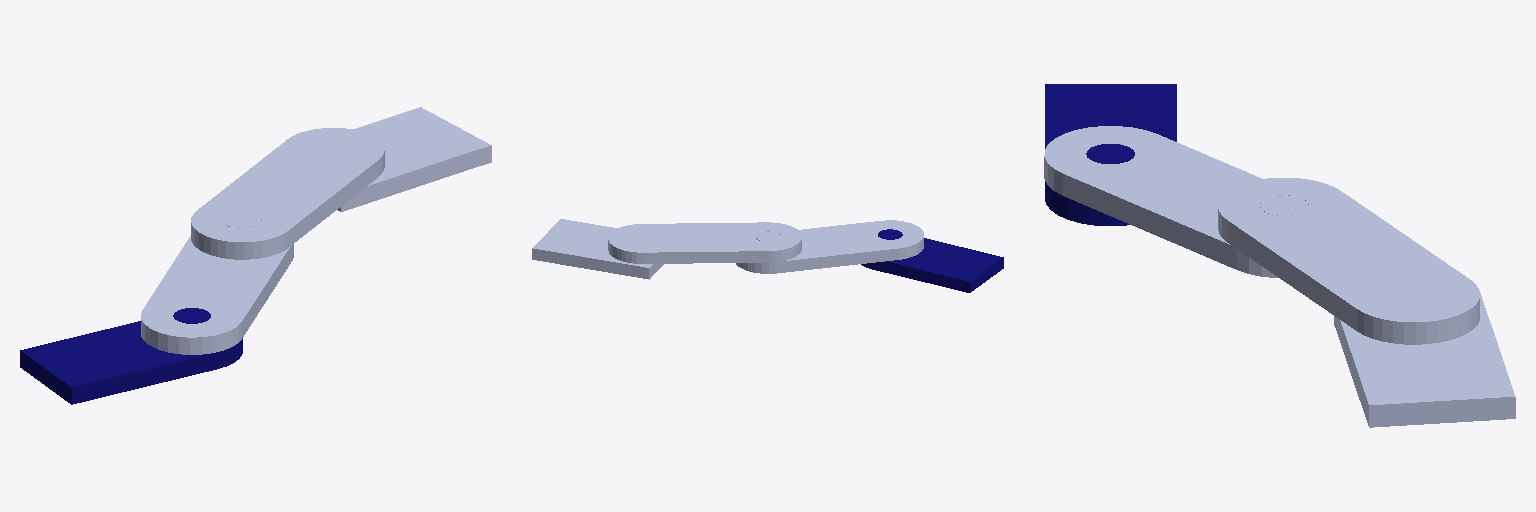
robot.urdf — urdf_file:
<?xml version="1.0" encoding="utf-8"?>
<!-- This URDF was automatically created by SolidWorks to URDF Exporter! Originally created by [author] ([email redacted]) 
     Commit Version: 1.6.0-4-g7f85cfe  Build Version: 1.6.7995.38578
     For more information, please see http://wiki.ros.org/sw_urdf_exporter -->
<robot name="urdf_file">
  <link name="base_link">
    <inertial>
      <origin
        xyz="-0.108085 -3.4694E-18 0.5"
        rpy="0 0 0" />
      <mass
        value="0.0010091" />
      <inertia
        ixx="1.4934E-08"
        ixy="-1.0785E-24"
        ixz="-1.0572E-09"
        iyy="6.7127E-08"
        iyz="-6.4523E-25"
        izz="8.0345E-08" />
    </inertial>
    <visual>
      <origin
        xyz="0 0 0"
        rpy="0 0 0" />
      <geometry>
        <mesh
          filename="package://serial_4bar/meshes/base_link.STL" />
      </geometry>
      <material
        name="">
        <color
          rgba="0.1 0.1 0.53 1" />
      </material>
    </visual>
    <collision>
      <origin
        xyz="0 0 0"
        rpy="0 0 0" />
      <geometry>
        <box size = "0.01357 0.02 0.002"/>
      </geometry>
    </collision>
  </link>

  <link
  name="link2">
    <inertial>
      <origin
        xyz="0.0097543 0.0096735 -0.0011662"
        rpy="0 0 0" />
      <mass
        value="0.0012602" />
      <inertia
        ixx="7.9092E-08"
        ixy="-6.031E-08"
        ixz="-1.0828E-09"
        iyy="8.0095E-08"
        iyz="-1.0738E-09"
        izz="1.5719E-07" />
    </inertial>
    <visual>
      <origin
        xyz="0 0 0"
        rpy="0 0 0" />
      <geometry>
        <mesh
          filename="package://serial_4bar/meshes/link2.STL" />
      </geometry>
      <material
        name="">
        <color
          rgba="0.79216 0.81961 0.93333 1" />
      </material>
    </visual>
    <collision>
      <origin
        xyz="0 0 0"
        rpy="0 0 0" />
      <geometry>
        <box size = "0.01357 0.02 0.002"/>
      </geometry>
    </collision>
  </link>
  <joint
    name="joint1"
    type="revolute">
    <origin
      xyz="0 0 0"
      rpy="0 0 0" />
    <parent
      link="base_link" />
    <child
      link="link2" />
    <axis
      xyz="0 0 1" />
  </joint>
  <link
    name="link3">
    <inertial>
      <origin
        xyz="0.013381 -0.0031119 -0.0013738"
        rpy="0 0 0" />
      <mass
        value="0.0012602" />
      <inertia
        ixx="2.5471E-08"
        ixy="2.6614E-08"
        ixz="1.4854E-09"
        iyy="1.3372E-07"
        iyz="-3.4545E-10"
        izz="1.5719E-07" />
    </inertial>
    <visual>
      <origin
        xyz="0 0 0"
        rpy="0 0 0" />
      <geometry>
        <mesh
          filename="package://serial_4bar/meshes/link3.STL" />
      </geometry>
      <material
        name="">
        <color
          rgba="0.79216 0.81961 0.93333 1" />
      </material>
    </visual>
    <collision>
      <origin
        xyz="0 0 0"
        rpy="0 0 0" />
      <geometry>
        <box size = "0.01357 0.02 0.002"/>
      </geometry>
    </collision>
  </link>
  <joint
    name="joint2"
    type="continuous">
    <origin
      xyz="0.018035 0.017886 0.00254"
      rpy="0 0 0.78124" />
    <parent
      link="link2" />
    <child
      link="link3" />
    <axis
      xyz="0 0 1" />
  </joint>
  <link
    name="link4">
    <inertial>
      <origin
        xyz="0.0078003 -0.0033992 0.00127"
        rpy="0 0 0" />
      <mass
        value="0.00093174" />
      <inertia
        ixx="2.4284E-08"
        ixy="1.1097E-08"
        ixz="-1.7097E-25"
        iyy="4.4912E-08"
        iyz="9.198E-26"
        izz="6.8193E-08" />
    </inertial>
    <visual>
      <origin
        xyz="0 0 0"
        rpy="0 0 0" />
      <geometry>
        <mesh
          filename="package://serial_4bar/meshes/link4.STL" />
      </geometry>
      <material
        name="">
        <color
          rgba="0.79216 0.81961 0.93333 1" />
      </material>
    </visual>
    <collision>
      <origin
        xyz="0 0 0"
        rpy="0 0 0" />
      <geometry>
        <box size = "0.01 0.01357 0.002"/>
      </geometry>
    </collision>
  </link>
  <joint
    name="joint3"
    type="continuous">
    <origin
      xyz="0.02474 -0.0057537 -0.00508"
      rpy="0 0 -0.22851" />
    <parent
      link="link3" />
    <child
      link="link4" />
    <axis
      xyz="0 0 1" />
  </joint>
</robot>

--- Render facts (derived) ---
Views: 3 orthographic renders of the robot side by side, from view 1: azimuth 30°, elevation 25°; view 2: azimuth 150°, elevation 25°; view 3: azimuth 270°, elevation 25°.
Model urdf_file with 4 links and 3 joints (1 revolute, 2 continuous), rooted at base_link, posed all joints at 0.
Links seen in each view (by area): view 1: link3, link2, base_link, link4; view 2: link3, link2, base_link, link4; view 3: link3, link2, link4, base_link.
Boxes of the visible links, <box> form: link3: <box>191,128,384,259</box>; link2: <box>141,213,293,354</box>; base_link: <box>20,308,242,404</box>; link4: <box>337,107,491,211</box>; link3: <box>608,222,801,263</box>; link2: <box>736,220,923,273</box>; base_link: <box>861,229,1003,292</box>; link4: <box>532,219,663,279</box>; link3: <box>1218,178,1479,344</box>; link2: <box>1044,126,1308,277</box>; link4: <box>1334,293,1515,427</box>; base_link: <box>1045,84,1176,225</box>.
Bounding box of the posed robot: 0.0837 × 0.0485 × 0.0076 m (x, y, z).
Meshes: 4 distinct files referenced, 4 mesh visuals loaded (4 binary STL).
